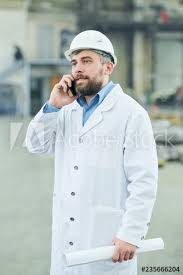Person_wearing_helmet: (63, 29, 125, 76)
